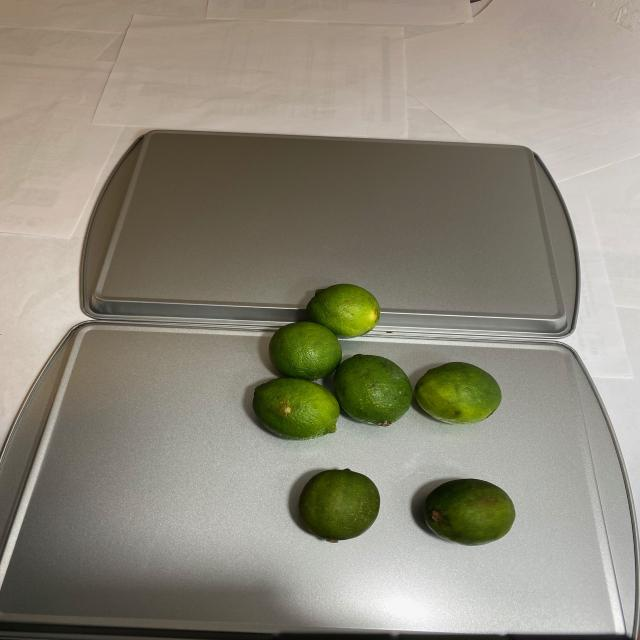lemon: (251, 282, 528, 548)
